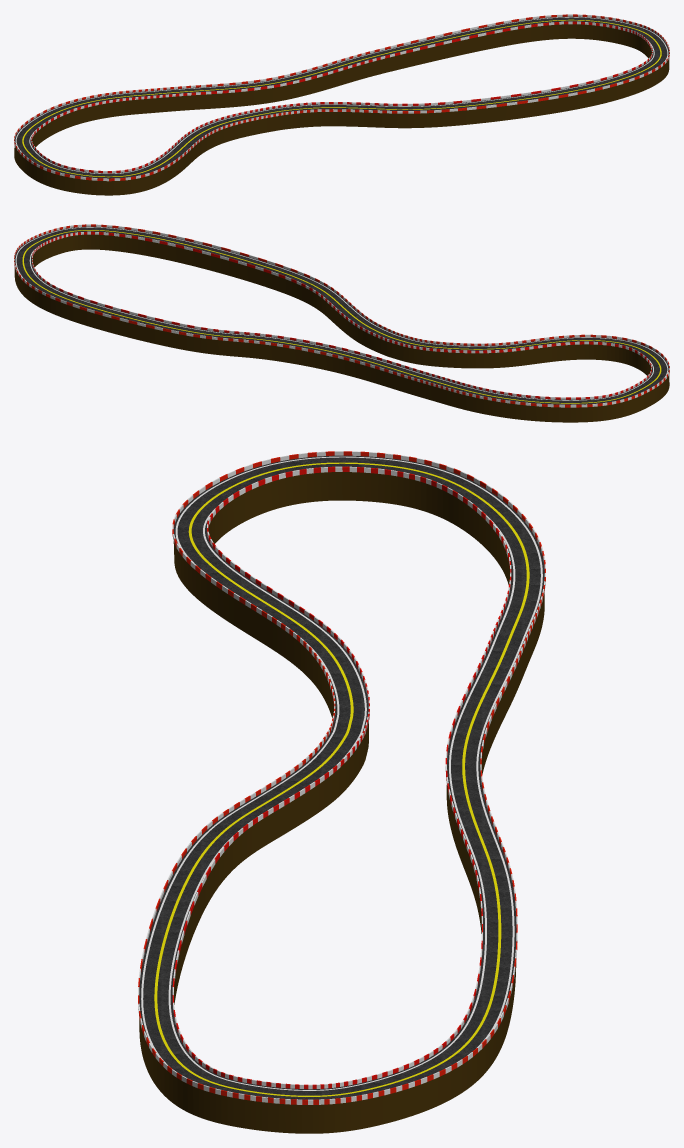
File: based on working track.fbx
3 views of the same model, one above another, from view 1: azimuth 30°, elevation 25°; view 2: azimuth 150°, elevation 25°; view 3: azimuth 270°, elevation 25° (orthographic). The views are drawn at different scales.
Parts seen in each view (by area): view 1: NurbsCurve, NurbsCurve.004, NurbsCurve.002; view 2: NurbsCurve, NurbsCurve.004, NurbsCurve.002; view 3: NurbsCurve, NurbsCurve.004, NurbsCurve.002.
Boxes of the visible parts, left/top/right/bottom form: NurbsCurve: left=14, top=16, right=669, bottom=195; NurbsCurve.004: left=14, top=14, right=669, bottom=181; NurbsCurve.002: left=31, top=21, right=652, bottom=173; NurbsCurve: left=14, top=226, right=669, bottom=422; NurbsCurve.004: left=14, top=224, right=669, bottom=407; NurbsCurve.002: left=32, top=231, right=651, bottom=399; NurbsCurve: left=139, top=455, right=544, bottom=1133; NurbsCurve.004: left=138, top=451, right=545, bottom=1104; NurbsCurve.002: left=172, top=466, right=511, bottom=1089.
Bounding box in the file's own units: 12044 × 698 × 3417.
